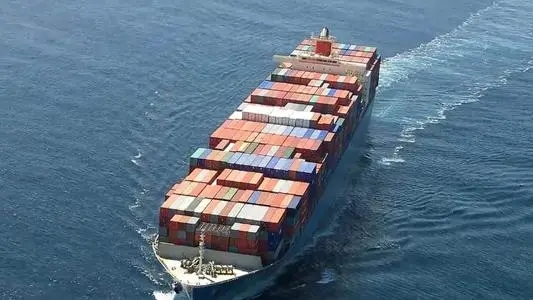Cargoship: (143, 24, 388, 296)
